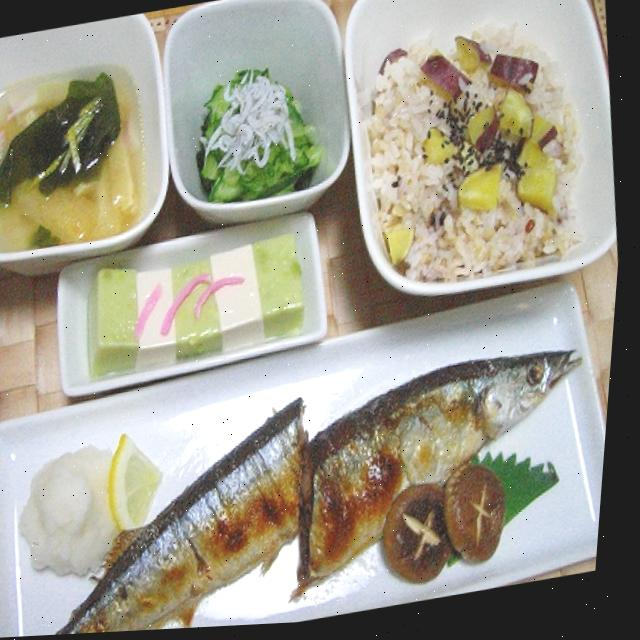熟制海鲜: (0, 270, 623, 640)
